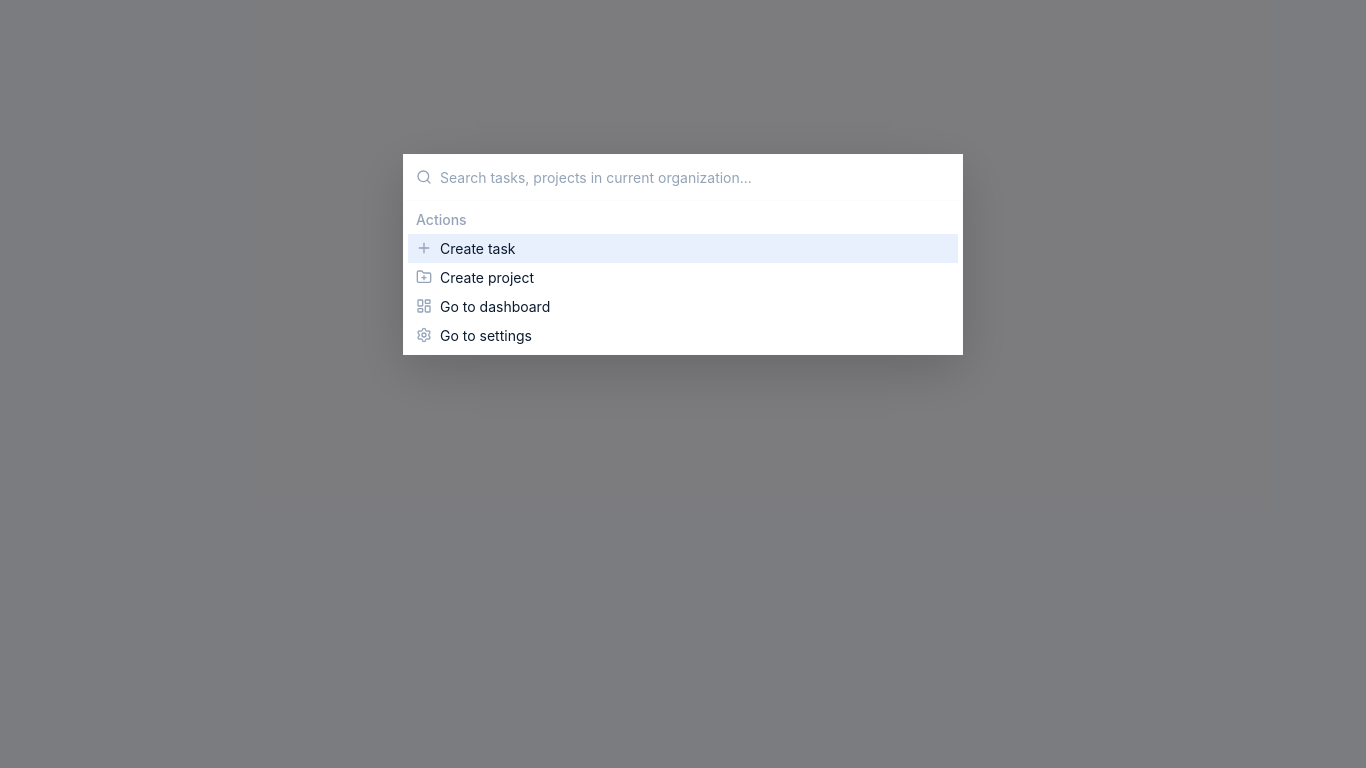
Test: CommandPalette search results › shows search result groups after debounce resolves
The width and height of the screenshot is (1366, 768).
In the dropdown: (695, 177) [440, 155, 950, 200], type "api"
Wait 200 ms
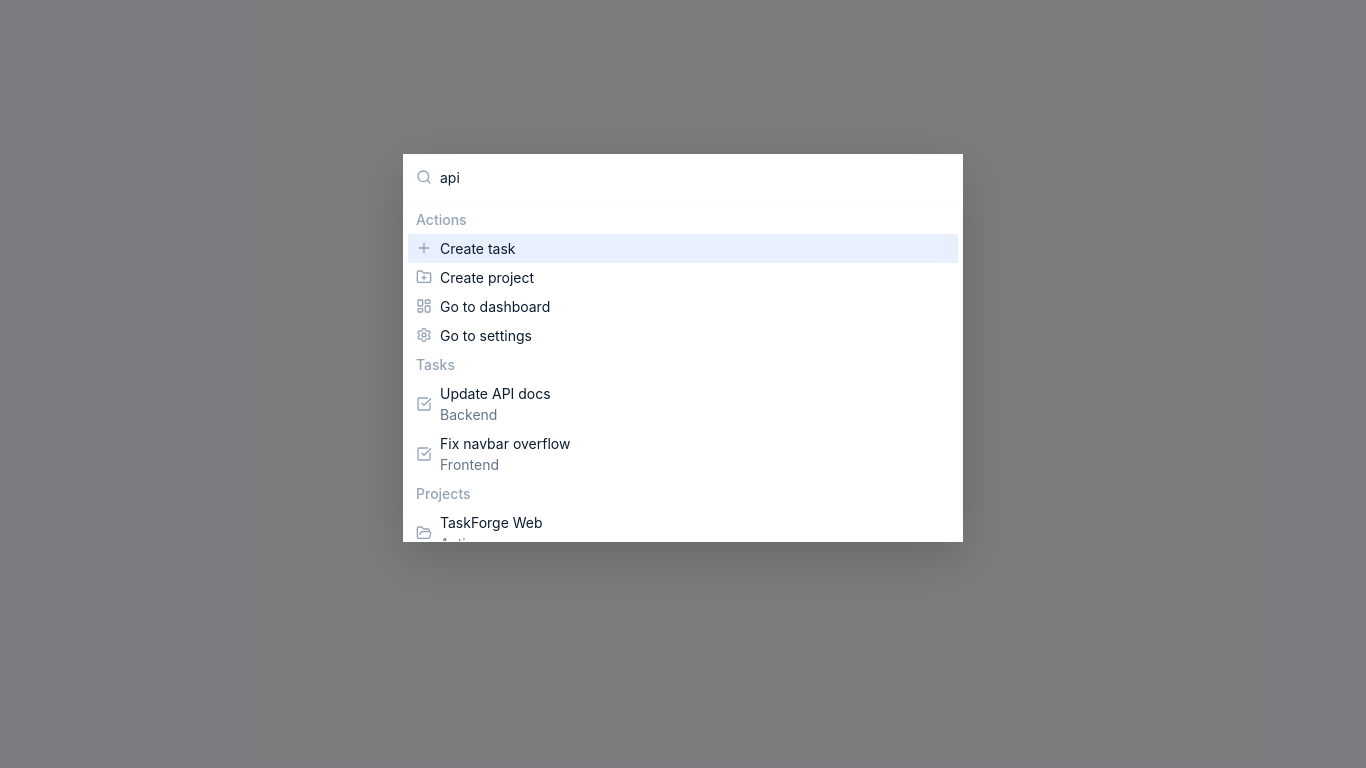
expect the text "Tasks" is shown: met, box [416, 356, 455, 373]
expect the text "Update API docs" is shown: met, box [440, 385, 551, 402]
expect the text "Projects" is shown: met, box [416, 485, 471, 502]
